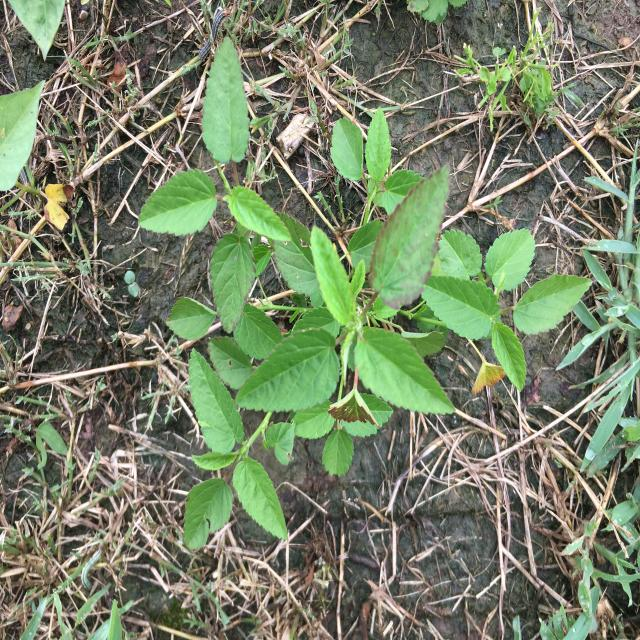PricklySida: (138, 36, 455, 550), (421, 228, 593, 394)
